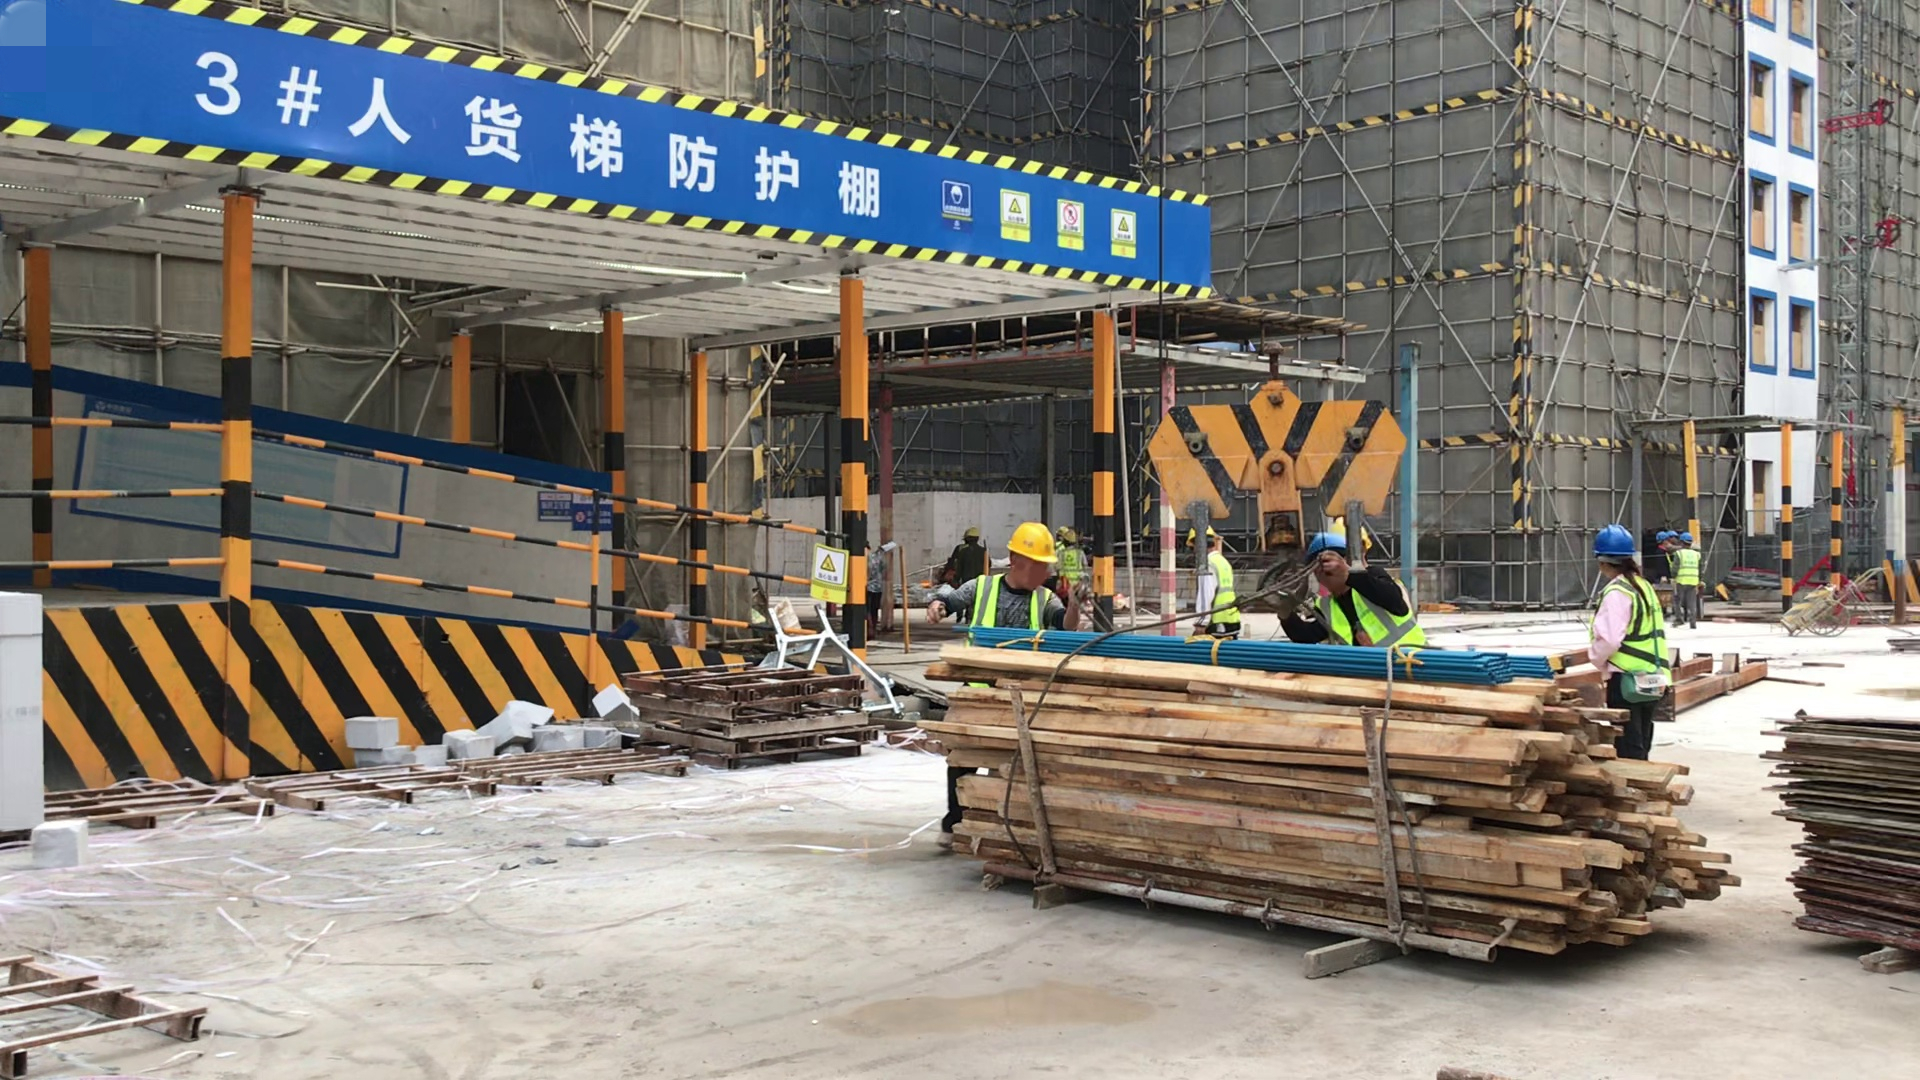board: (1764, 678, 1920, 966)
handcart: (1772, 563, 1875, 644)
helmet: (1004, 521, 1058, 566), (1589, 521, 1641, 563), (1304, 531, 1348, 559), (1184, 527, 1218, 544), (1060, 524, 1078, 546), (1678, 526, 1694, 544), (959, 527, 981, 541), (1666, 527, 1680, 539), (1656, 529, 1667, 542)
hook: (1136, 336, 1417, 555)
person: (1585, 523, 1683, 759), (1293, 528, 1439, 644), (972, 513, 1078, 630), (1183, 526, 1243, 639), (1646, 525, 1704, 618), (861, 535, 896, 645), (1049, 519, 1092, 591), (940, 525, 994, 579)
slogan: (934, 166, 1140, 282), (808, 544, 848, 618)
vest: (1599, 579, 1670, 680), (1314, 583, 1426, 645), (971, 575, 1056, 632), (1199, 550, 1241, 626), (1672, 550, 1703, 589), (1062, 549, 1083, 584)
wood: (939, 637, 1715, 952)
